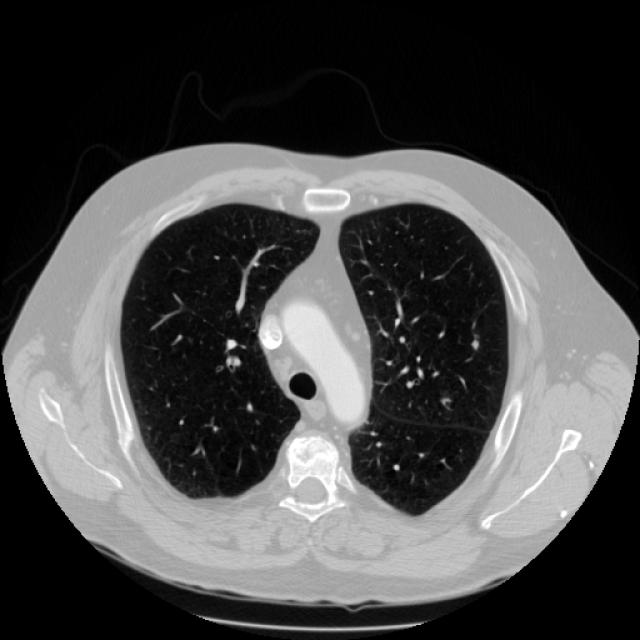nodule: (462, 330, 486, 355)
